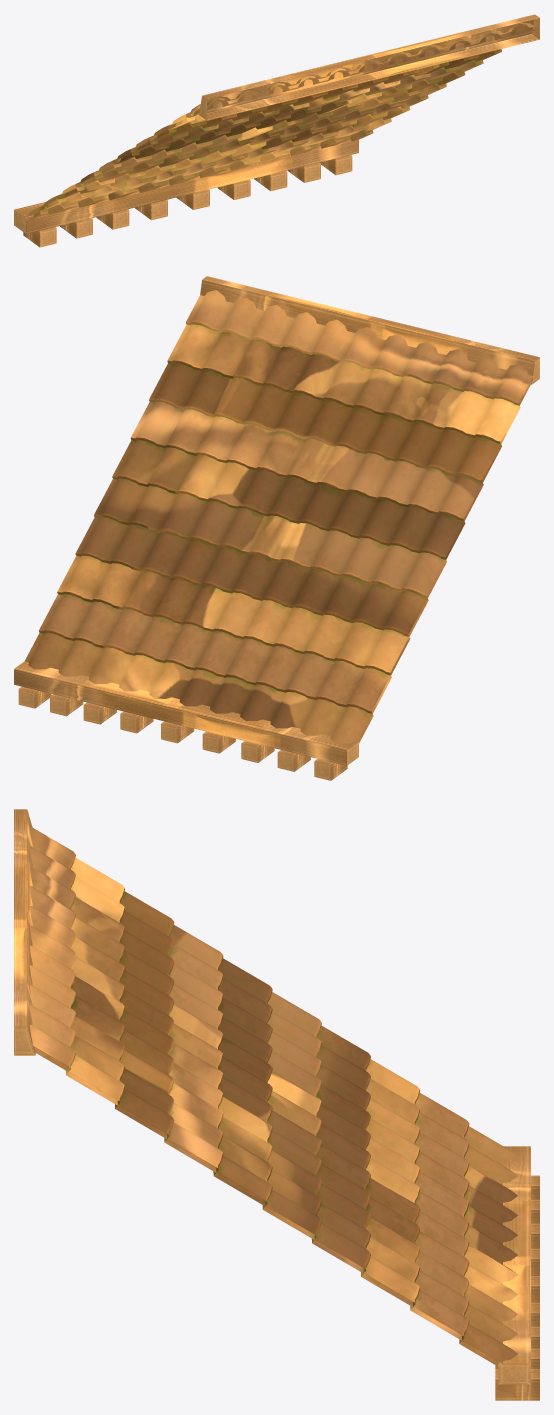
File: SM_Roof_02.fbx
3 renders of one model, top to bottom at view 1: azimuth 30°, elevation 25°; view 2: azimuth 150°, elevation 25°; view 3: azimuth 270°, elevation 25°, orthographic. The views are drawn at different scales.
Visible parts, largest first — view 1: SM_Roof_02_LOD0; view 2: SM_Roof_02_LOD0; view 3: SM_Roof_02_LOD0.
Boxes of the visible parts, bbox=[...] form: SM_Roof_02_LOD0: bbox=[14, 14, 539, 247]; SM_Roof_02_LOD0: bbox=[14, 276, 539, 780]; SM_Roof_02_LOD0: bbox=[14, 809, 539, 1400].
Size of the model in its own units: 400 by 409 by 325.
